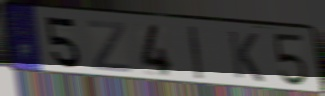4: (138, 21, 175, 78)
5: (43, 15, 83, 70), (271, 31, 308, 87)
I: (186, 24, 205, 82)
K: (225, 29, 266, 85)
Z: (85, 19, 133, 75)
